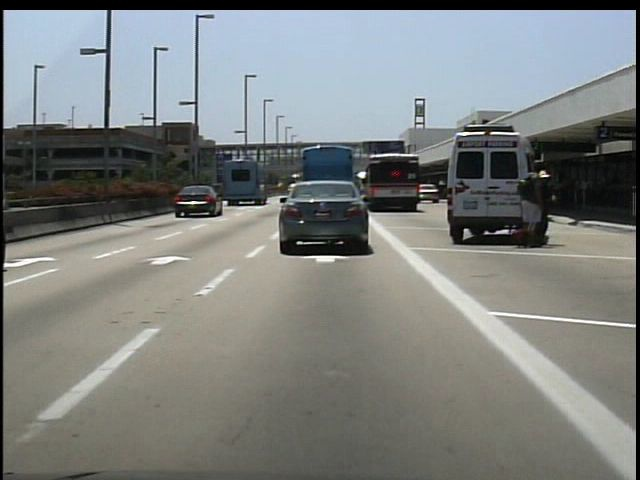person: (517, 160, 549, 247), (539, 170, 556, 246)
